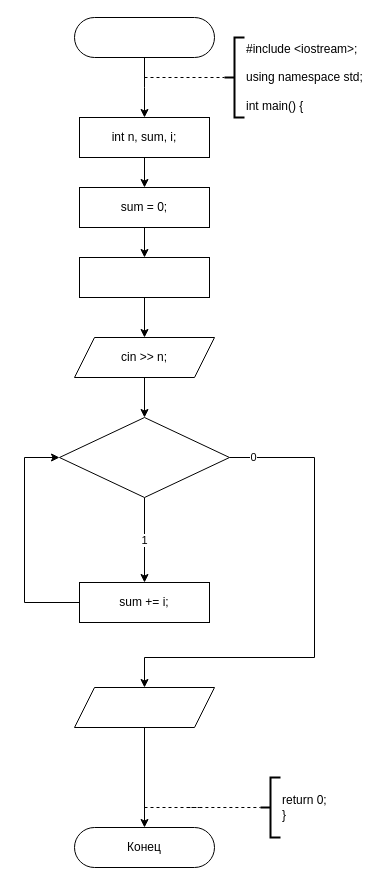
Image size: 381x885. Some labels were removed from this diagram. Here are the shapes that lost their labels. From the top down, the centre of each, then its label:
At (144,37): "Запуск".
At (144,277): "i = 1;".
At (144,457): "if (i < n)".
At (144,707): "cout << sum;".
